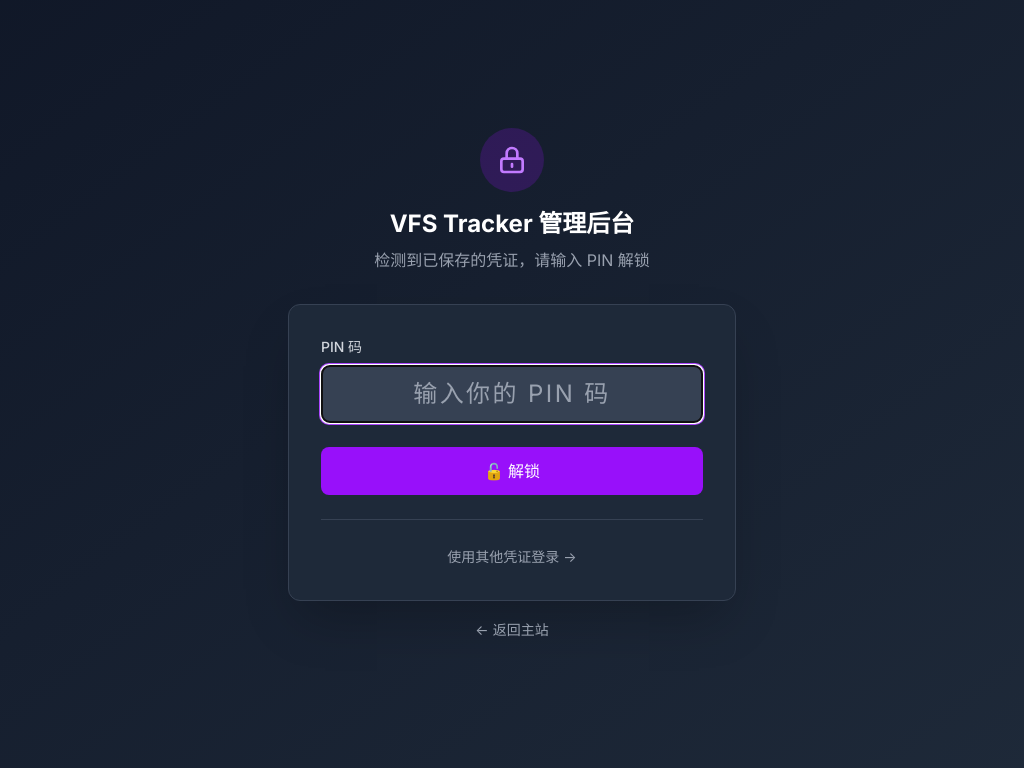
Test case: AWSClientProvider PIN 解锁 › 损坏存储给出独立提示，清理后界面与实际状态一致
This screenshot has width=1024, height=768.
Type "2580" into the password field labelled "PIN 码" at (512, 394), box [321,364,703,422]
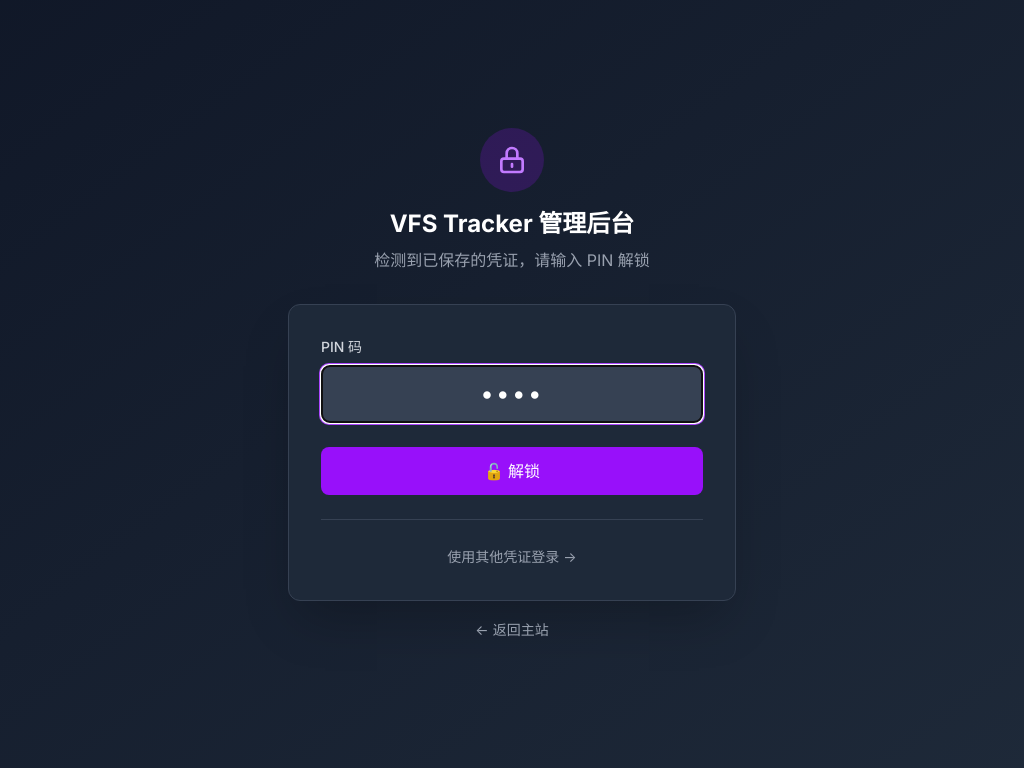
Click the button "🔓 解锁" at (512, 470), box [321,446,703,494]
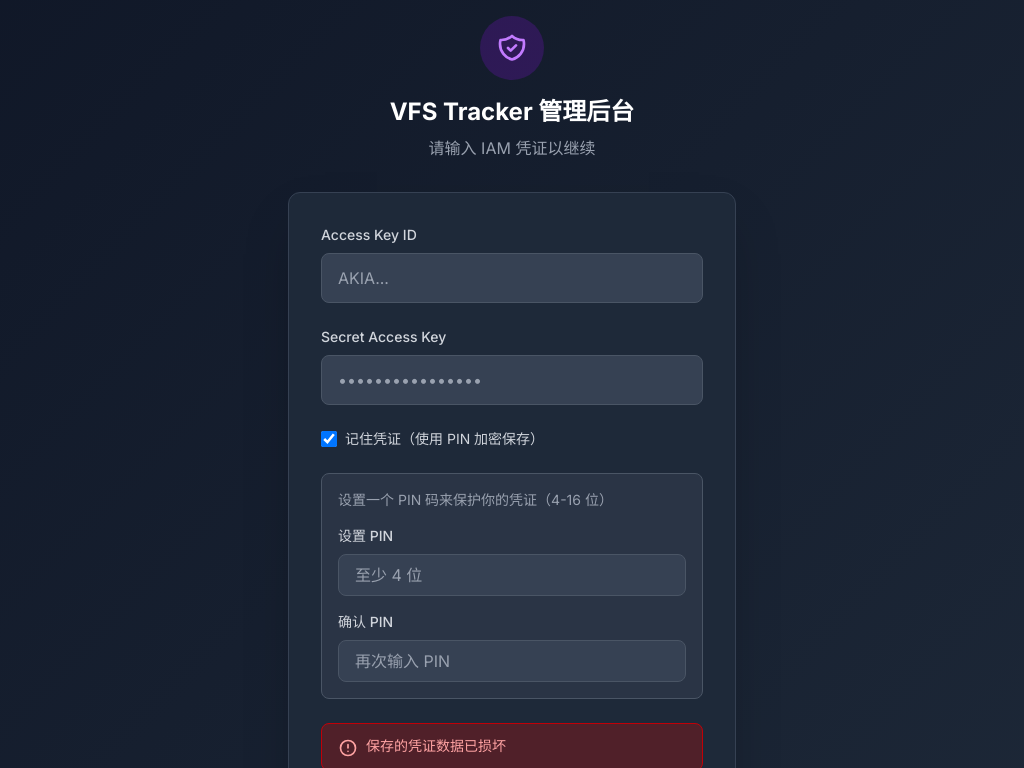
Result: the text "保存的凭证数据已损坏" is shown at [366,736,506,756]
Result: the text "请输入 IAM 凭证以继续" is shown at [429,138,595,158]
